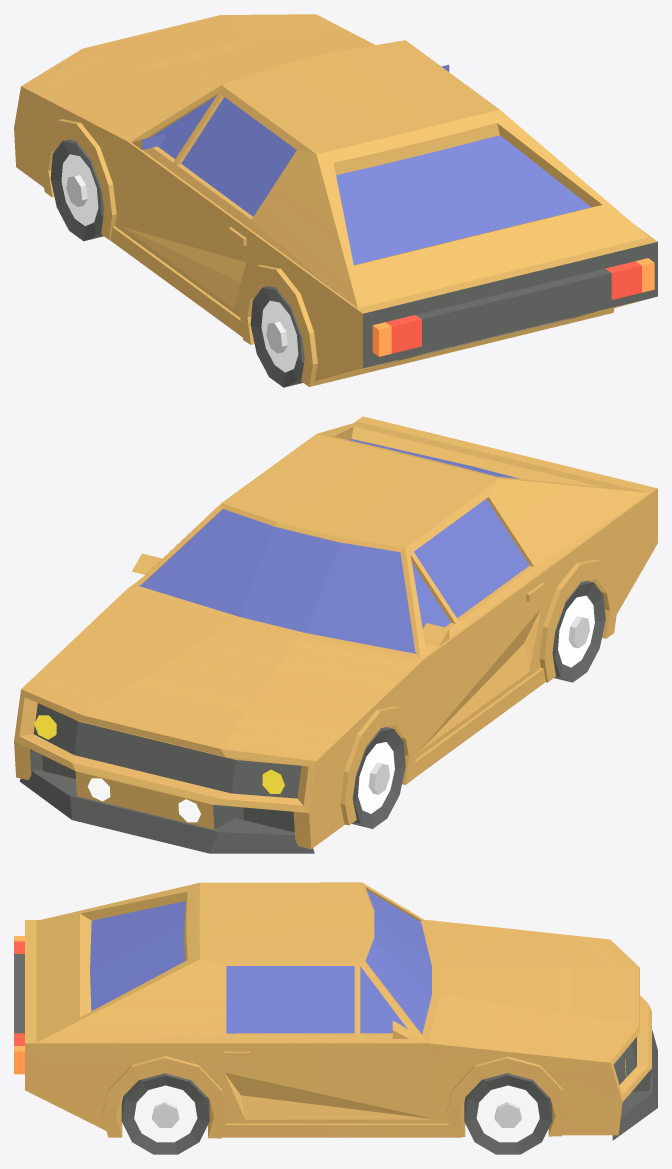
The model's file is transport_sport.007.glb.
The picture shows the model from 3 angles, top to bottom: view 1: azimuth 30°, elevation 25°; view 2: azimuth 150°, elevation 25°; view 3: azimuth 270°, elevation 25°; orthographic projection. The views are drawn at different scales.
Parts seen in each view (by area): view 1: transport_sport.007(Clone); view 2: transport_sport.007(Clone); view 3: transport_sport.007(Clone).
Boxes of the visible parts, left/top/right/bottom form: transport_sport.007(Clone): left=14, top=14, right=657, bottom=387; transport_sport.007(Clone): left=14, top=416, right=657, bottom=853; transport_sport.007(Clone): left=14, top=882, right=657, bottom=1154.
Size of the model in its own units: 1.8 by 1.11 by 3.82.
Materials: 1 (1 with a texture image).
